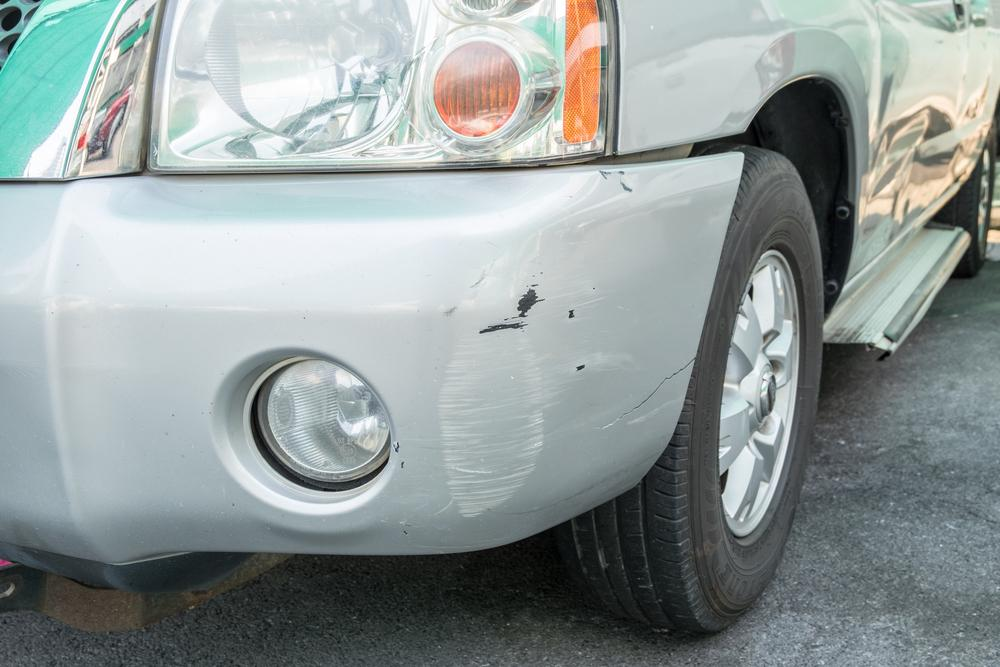crack: (596, 356, 696, 429)
dent: (871, 106, 958, 200)
scratch: (433, 182, 642, 526)
